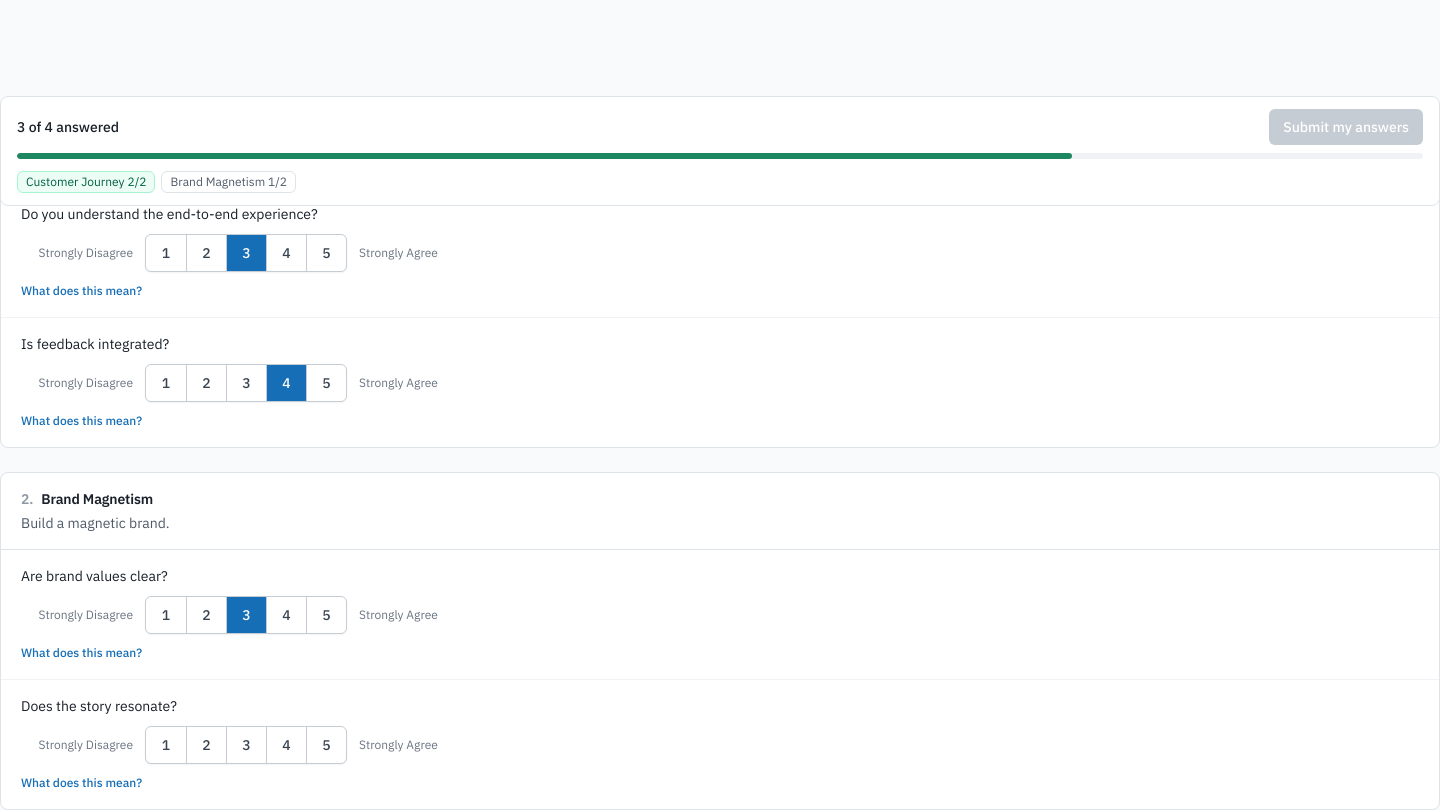
Test case: QuestionnairePage › submits only after the last answer has saved
(page scrolled)
Click the radio button labelled "2" below "Does the story resonate?".
click(206, 745)  # box [186,727,226,763]
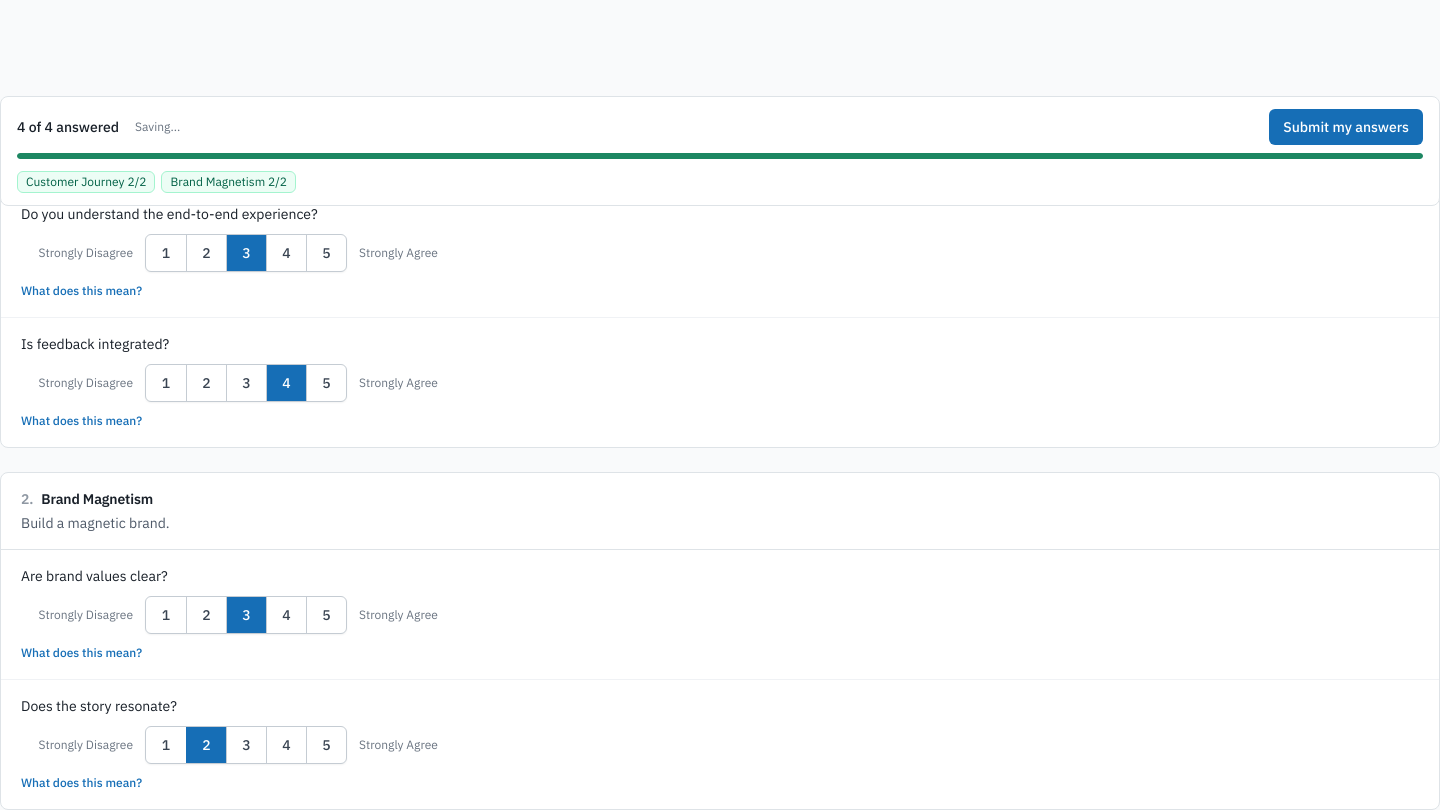
# The last answer is still saving when the person submits.
Click the button "Submit my answers".
click(1346, 127)  # box [1269,109,1423,145]
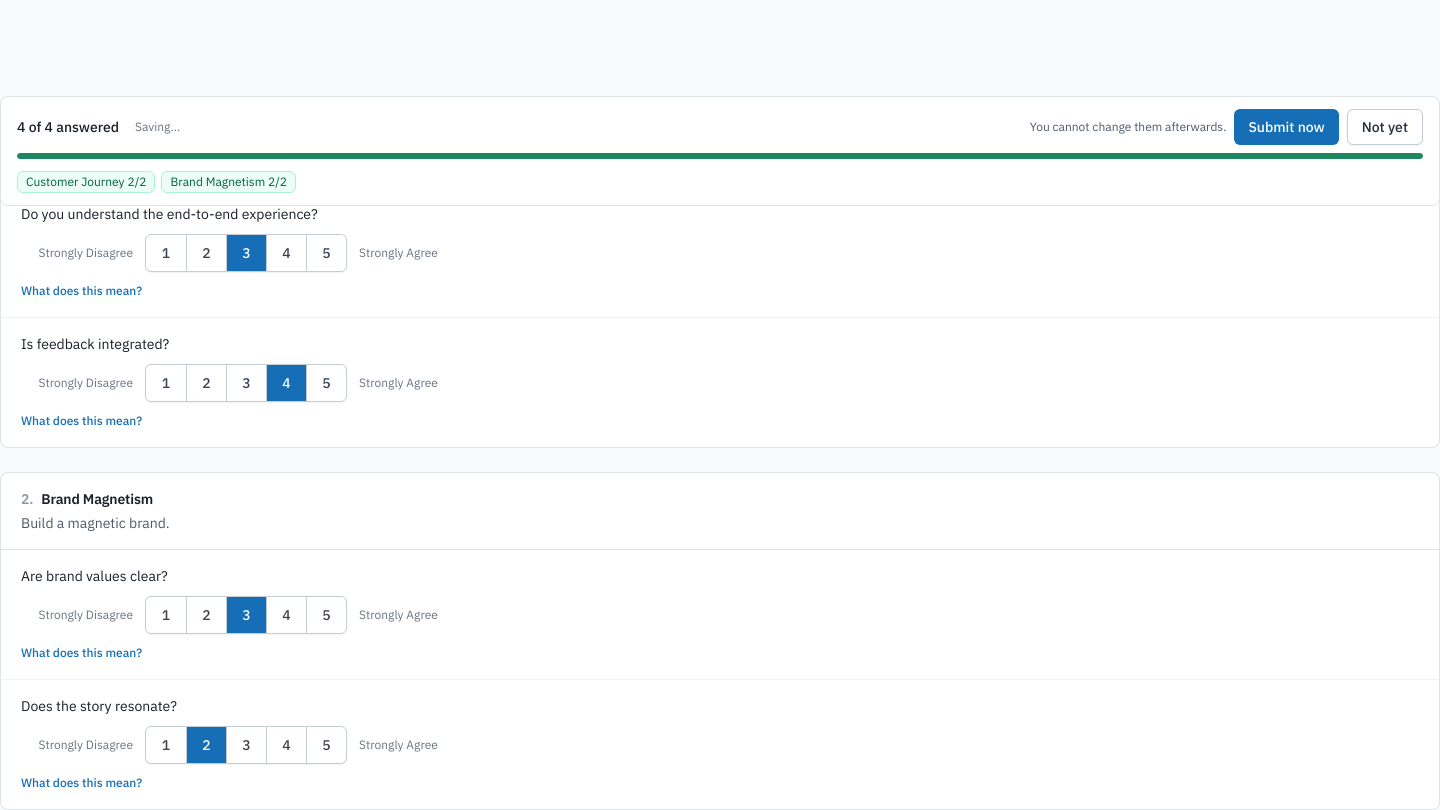
Click the button "Submit now".
click(1287, 127)  # box [1234,109,1339,145]
(page scrolled)
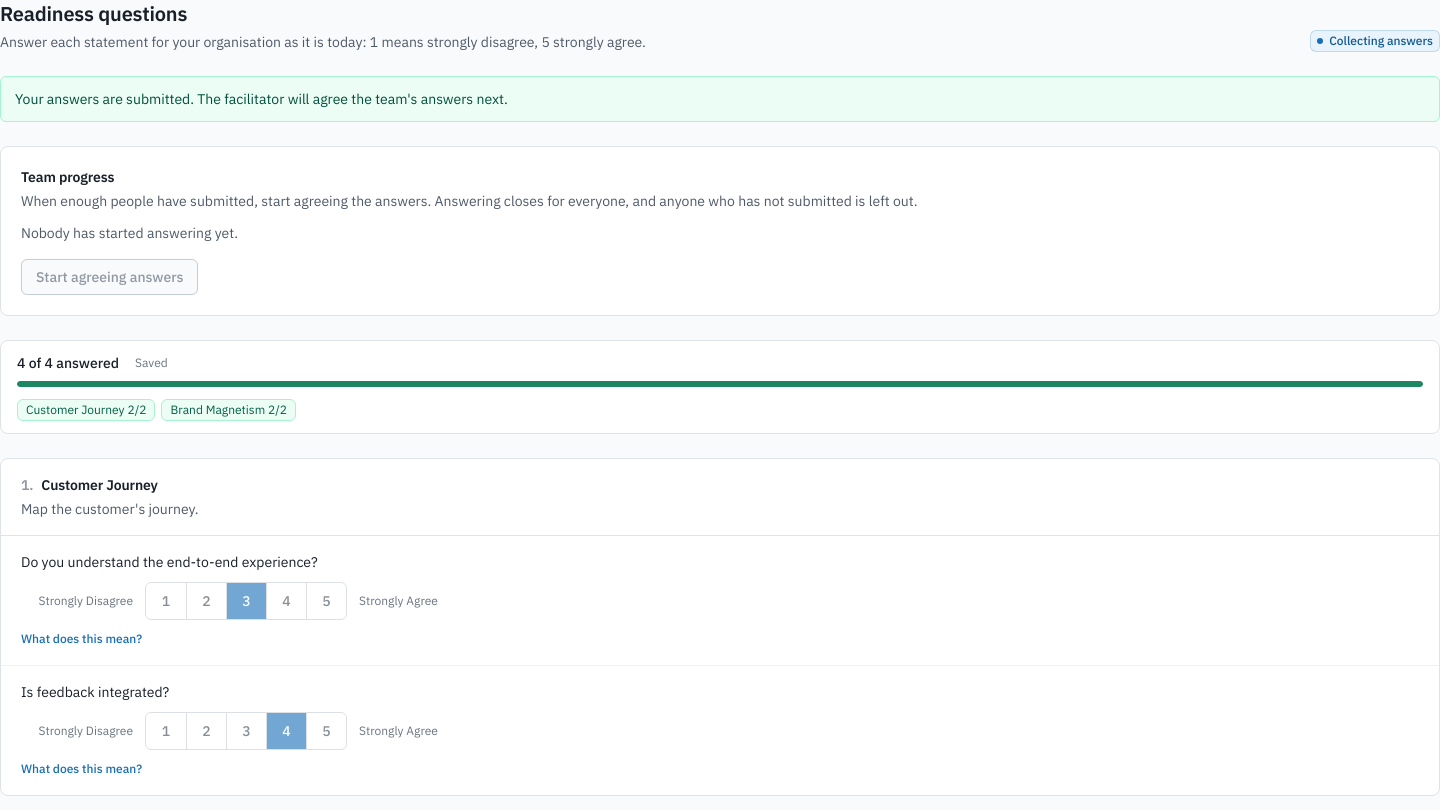
expect the text "Your answers are submitted" is shown: met, box [15,90,508,108]
